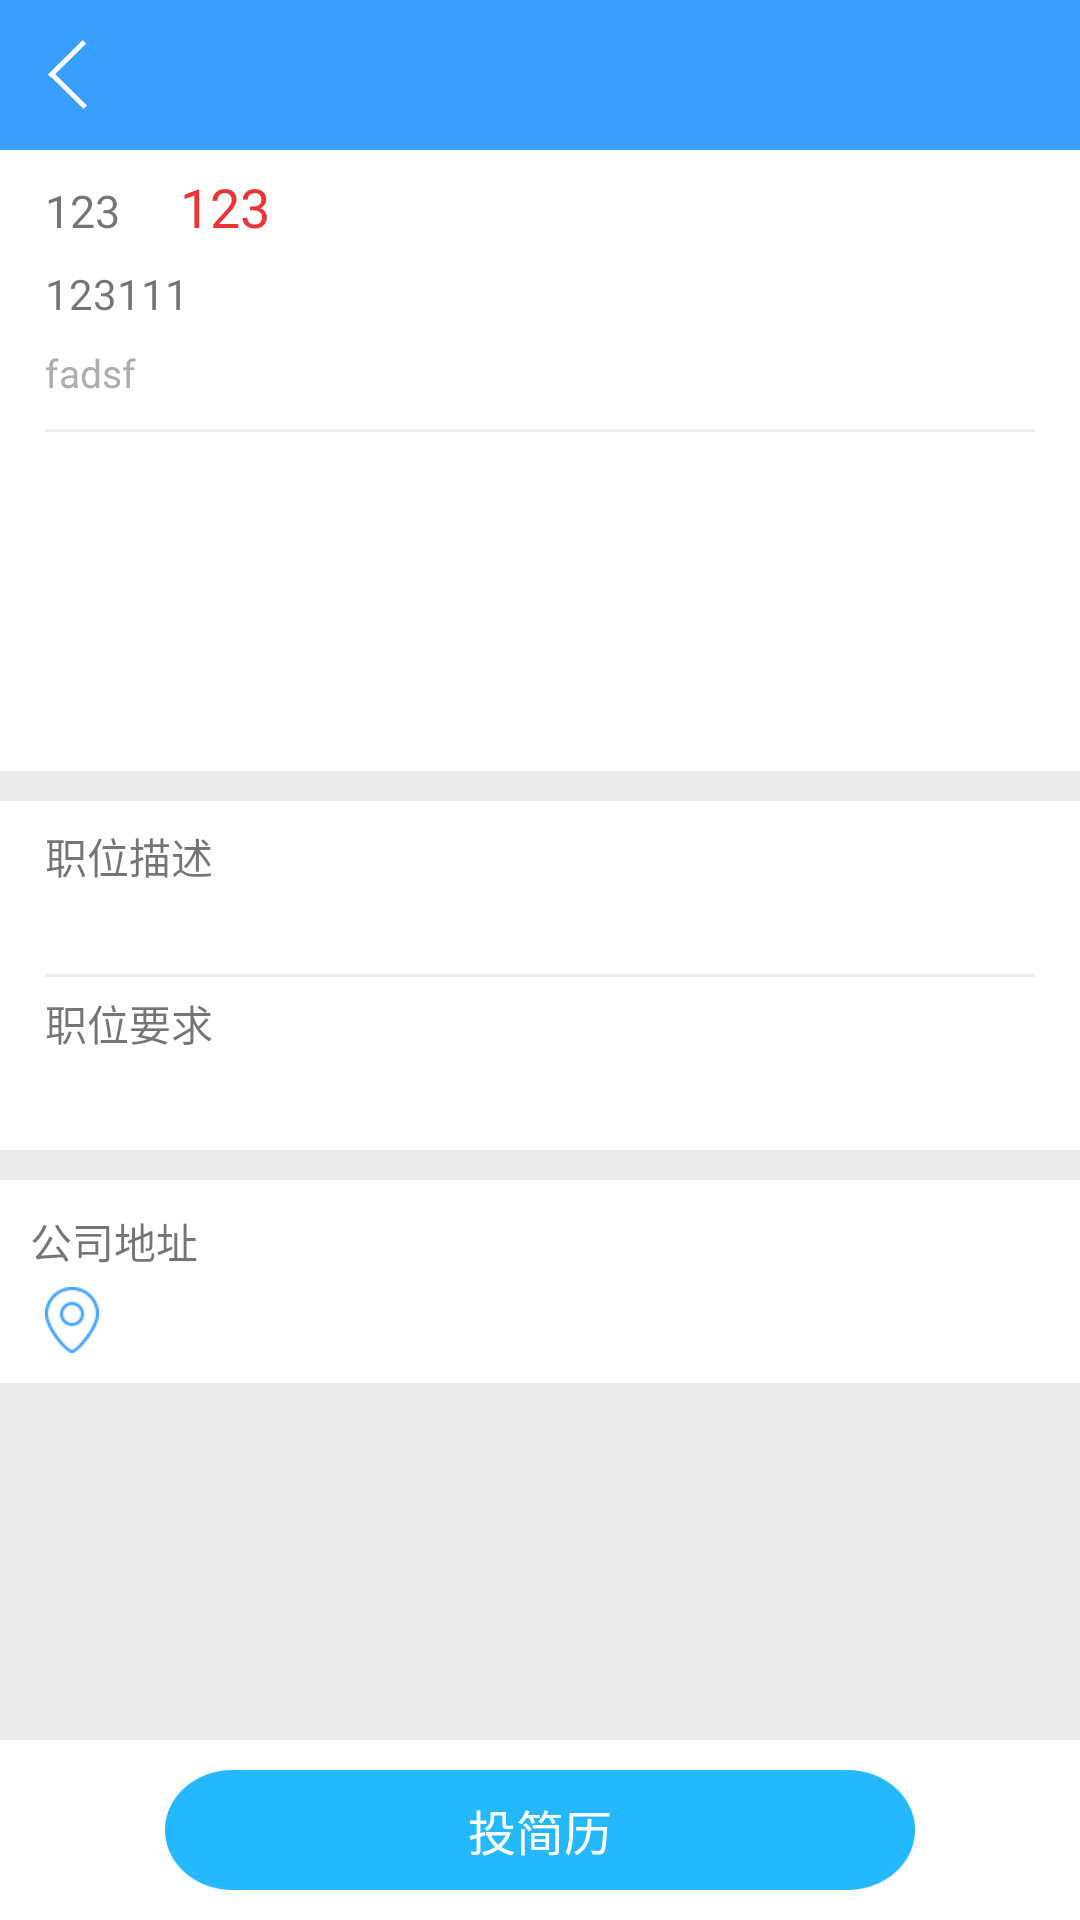

Icons on this 1080 x 1920 Android screen, each with its box as (x1=x1, y1=y1, x2=x2, y2=y2):
address point: (x1=45, y1=1287, x2=99, y2=1353)
